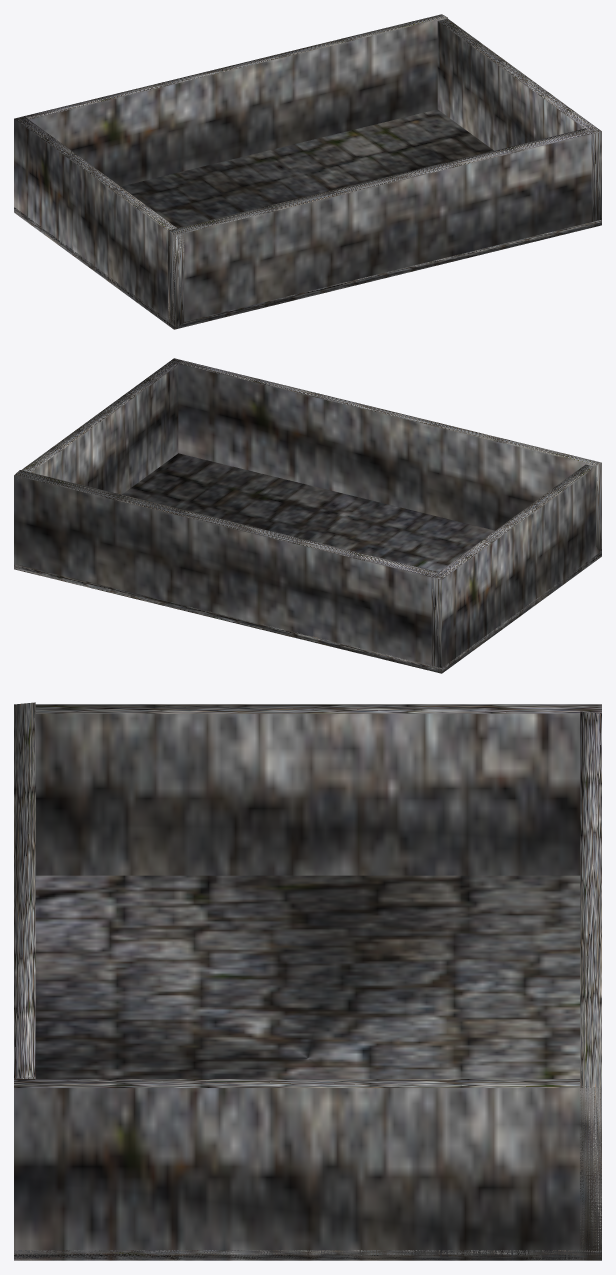
Rendered from cf_b_col2.obj.
The picture shows the model from 3 angles, top to bottom: view 1: azimuth 30°, elevation 25°; view 2: azimuth 150°, elevation 25°; view 3: azimuth 270°, elevation 25°; orthographic projection. The views are drawn at different scales.
Visible parts, largest first — view 1: 0base_Cube.006; view 2: 0base_Cube.006; view 3: 0base_Cube.006.
Boxes of the visible parts, x1,y1,x2,y2 form: 0base_Cube.006: [14, 14, 601, 329]; 0base_Cube.006: [14, 358, 601, 673]; 0base_Cube.006: [14, 702, 601, 1260].
Bounding box in the file's own units: 11.39 × 2.42 × 7.38.
